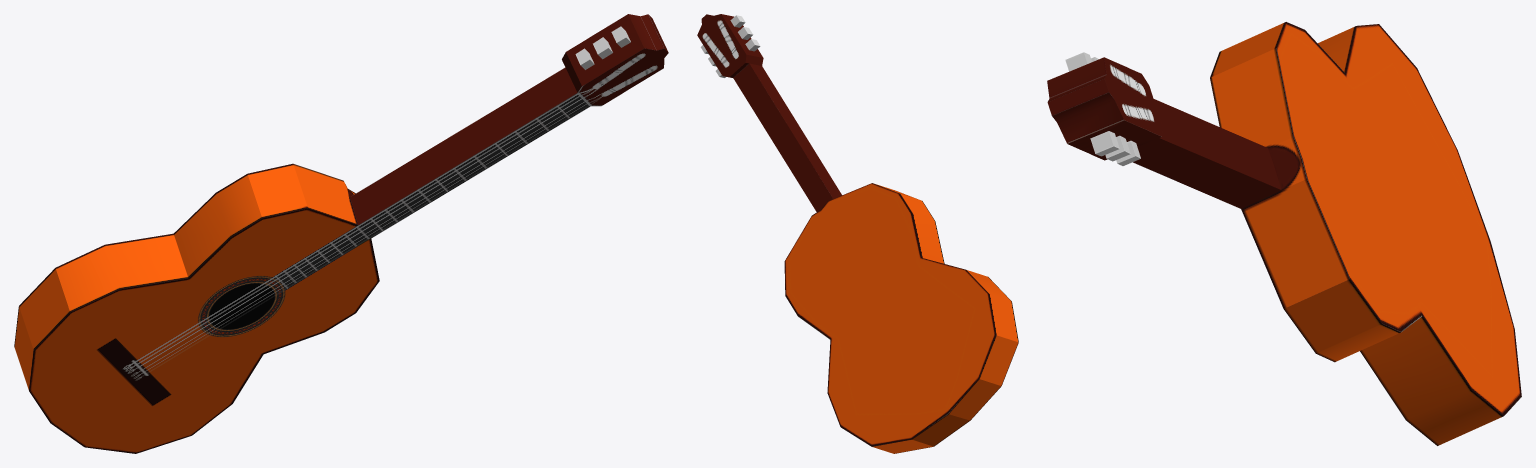
Rendered from guitarra2_000200.obj.
3 renders of one model, left to right at view 1: azimuth 30°, elevation 25°; view 2: azimuth 150°, elevation 25°; view 3: azimuth 270°, elevation 25°, orthographic. The views are drawn at different scales.
Visible parts, largest first — view 1: g2_pPlane4.001; view 2: g2_pPlane4.001; view 3: g2_pPlane4.001.
Part boxes in pixels (x1,y1,x2,y2): g2_pPlane4.001: [14, 14, 668, 453]; g2_pPlane4.001: [697, 14, 1018, 453]; g2_pPlane4.001: [1047, 22, 1521, 445].
Size of the model in its own units: 10.45 by 8.24 by 5.68.
